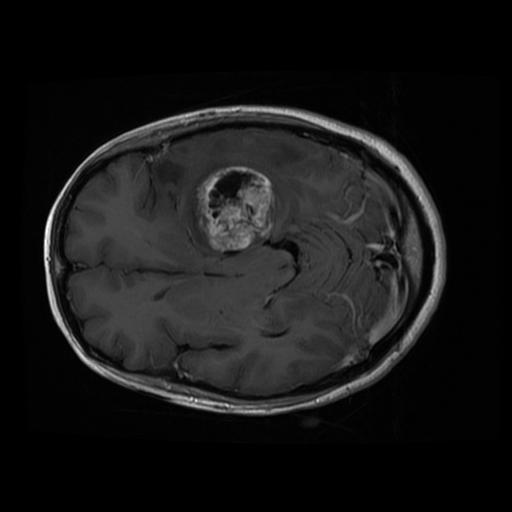glioma: (186, 165, 276, 256)
